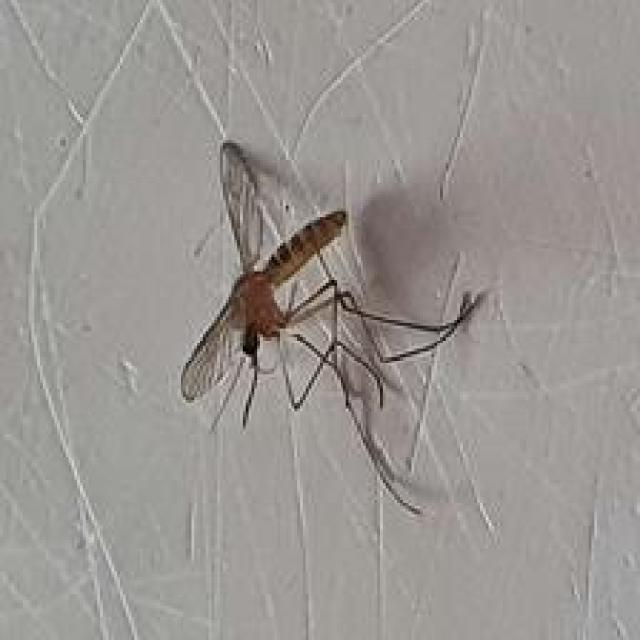Culex: (179, 138, 487, 518)
